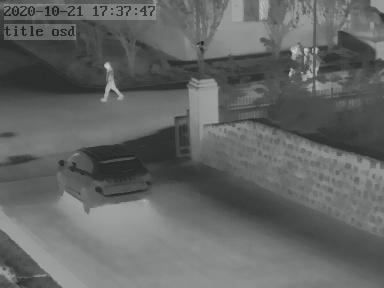person: (102, 59, 121, 101)
vehicle: (57, 145, 151, 210)
